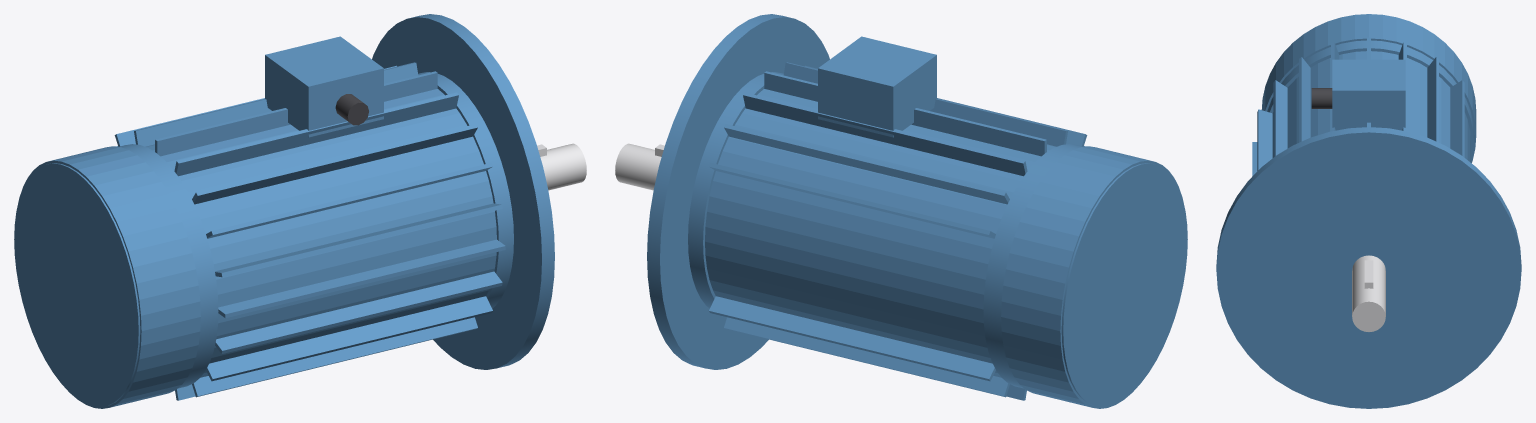
The model's file is electrico_induccion_4p0_brida.glb.
3 views of the same model, side by side, from view 1: azimuth 30°, elevation 25°; view 2: azimuth 150°, elevation 25°; view 3: azimuth 270°, elevation 25° (orthographic). The views are drawn at different scales.
Parts seen in each view (by area): view 1: carcasa, cubreventilador, tapa_delantera, caja_bornes, tapa_trasera, eje; view 2: carcasa, cubreventilador, tapa_delantera, caja_bornes, tapa_trasera, eje; view 3: tapa_delantera, carcasa, cubreventilador, caja_bornes, eje, tapa_trasera, chaveta.
Boxes of the visible parts, <box> form: carcasa: <box>114,62,505,400</box>; cubreventilador: <box>14,146,200,408</box>; tapa_delantera: <box>372,14,554,369</box>; caja_bornes: <box>265,36,383,137</box>; tapa_trasera: <box>119,144,218,388</box>; eje: <box>540,143,586,190</box>; carcasa: <box>705,62,1087,400</box>; cubreventilador: <box>1001,146,1187,408</box>; tapa_delantera: <box>647,14,829,369</box>; caja_bornes: <box>818,36,936,137</box>; tapa_trasera: <box>983,144,1082,388</box>; eje: <box>615,143,661,190</box>; tapa_delantera: <box>1216,127,1521,408</box>; carcasa: <box>1252,37,1470,175</box>; cubreventilador: <box>1261,14,1476,161</box>; caja_bornes: <box>1311,59,1405,130</box>; eje: <box>1352,255,1385,331</box>; tapa_trasera: <box>1267,40,1474,162</box>; chaveta: <box>1364,260,1373,288</box>.
Size of the model in its own units: 44.19 by 27.62 by 27.62.
